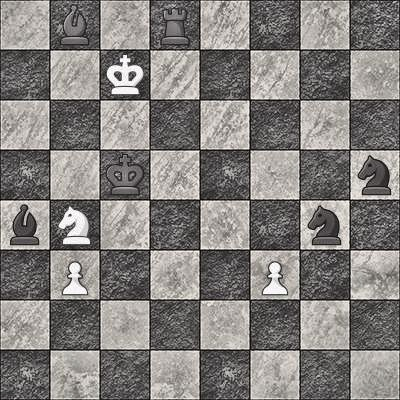black-bishop: (50, 0, 100, 50), (0, 200, 50, 250)
black-king: (100, 150, 150, 200)
black-knight: (350, 150, 400, 200), (300, 200, 350, 250)
black-rook: (150, 0, 200, 50)
white-king: (100, 50, 150, 100)
white-knight: (50, 200, 100, 250)
white-pawn: (50, 250, 100, 300), (250, 250, 300, 300)
